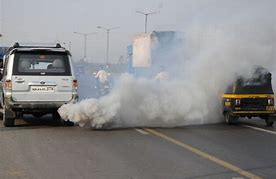smoke: (57, 72, 204, 129)
